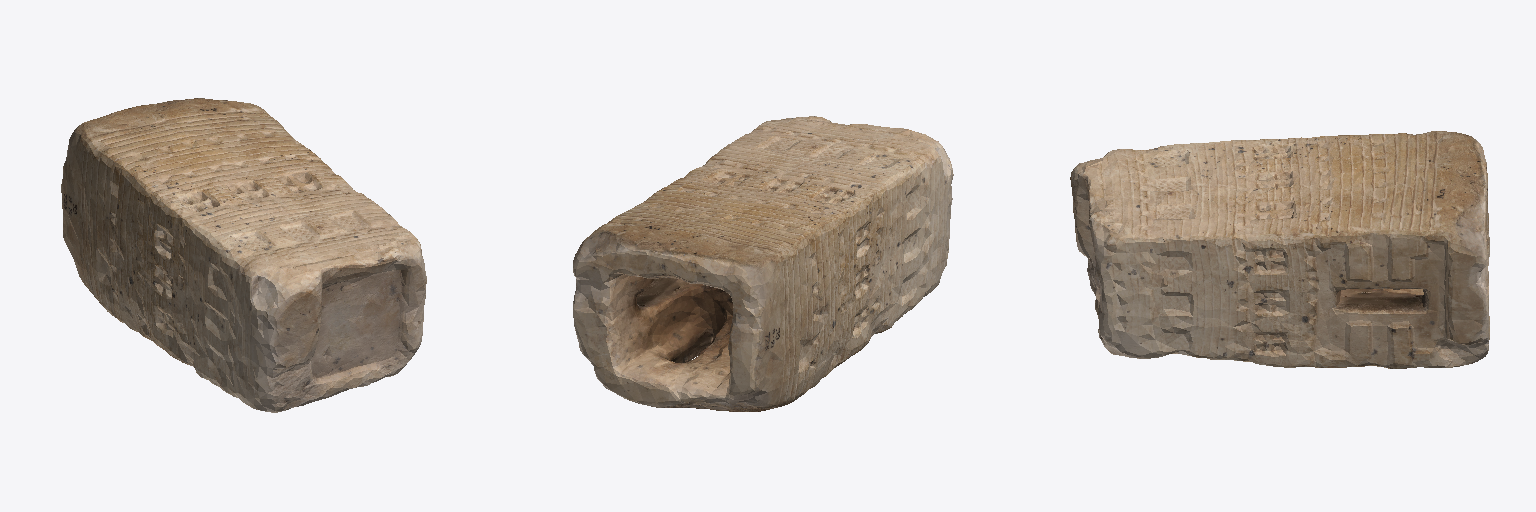
3 renders of one model, left to right at view 1: azimuth 30°, elevation 25°; view 2: azimuth 150°, elevation 25°; view 3: azimuth 270°, elevation 25°, orthographic.
Bounding box in the file's own units: 9.19 × 7.61 × 17.24.
1 materials, 1 textured.